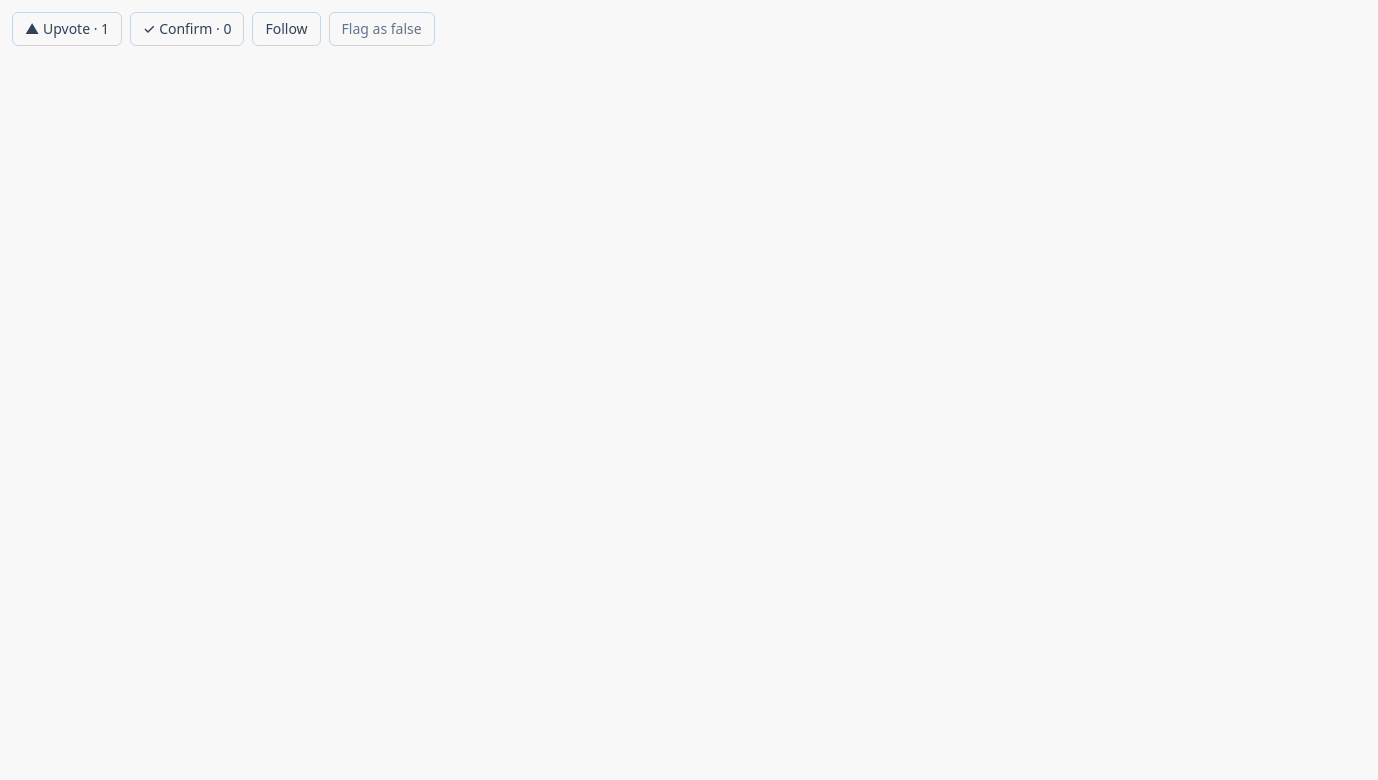
Scenario: VoteBar › shows why a vote failed and leaves the counts alone
Click the button "✓ Confirm · 0" at point(187, 29), box [130, 12, 244, 46]
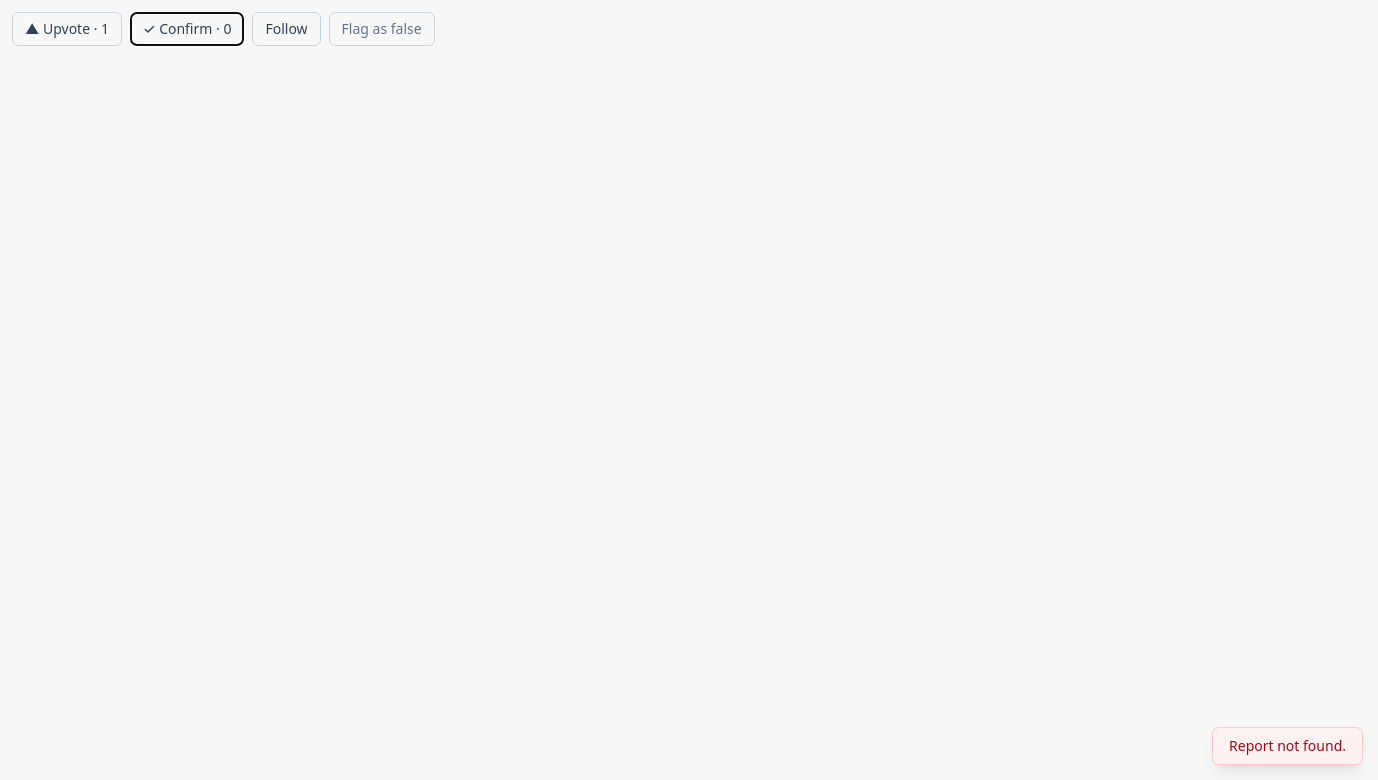
Check: the text "Report not found." is shown, box [1213, 728, 1362, 764]
